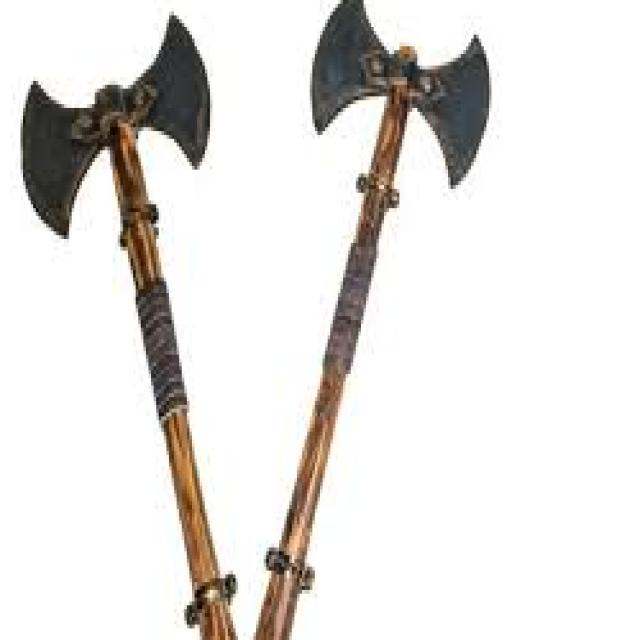Gun: (213, 0, 517, 640), (13, 0, 253, 640)
